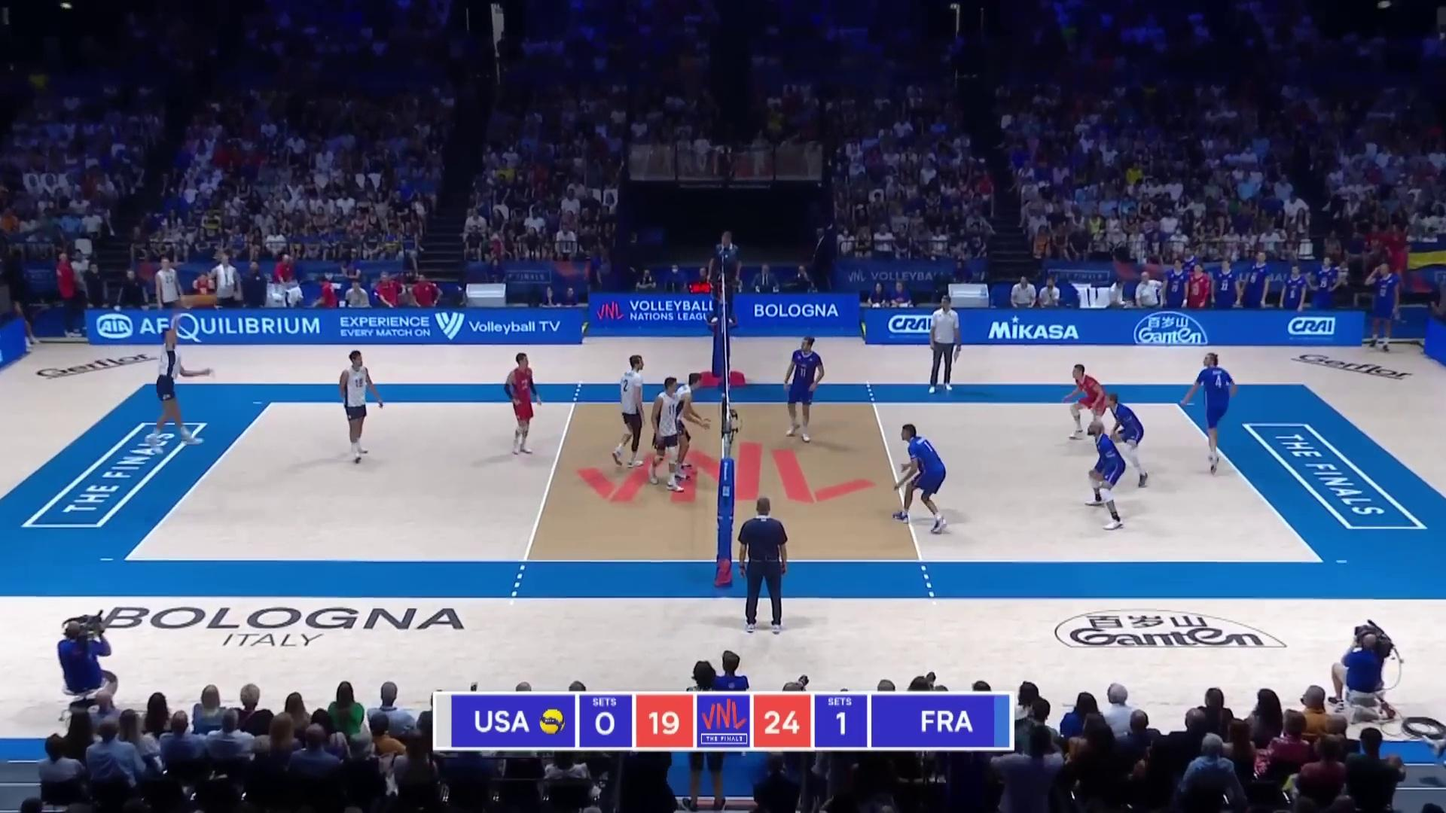player: (148, 327, 203, 452), (1183, 353, 1237, 476), (890, 423, 947, 533), (338, 350, 382, 464), (645, 376, 687, 494), (782, 336, 825, 443), (1087, 421, 1127, 531), (1105, 394, 1150, 487), (502, 352, 540, 457), (612, 354, 647, 467), (670, 373, 706, 479), (1065, 364, 1108, 441)
refree: (740, 500, 791, 633), (709, 232, 739, 323)
